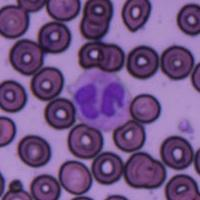N: (69, 68, 132, 131)
